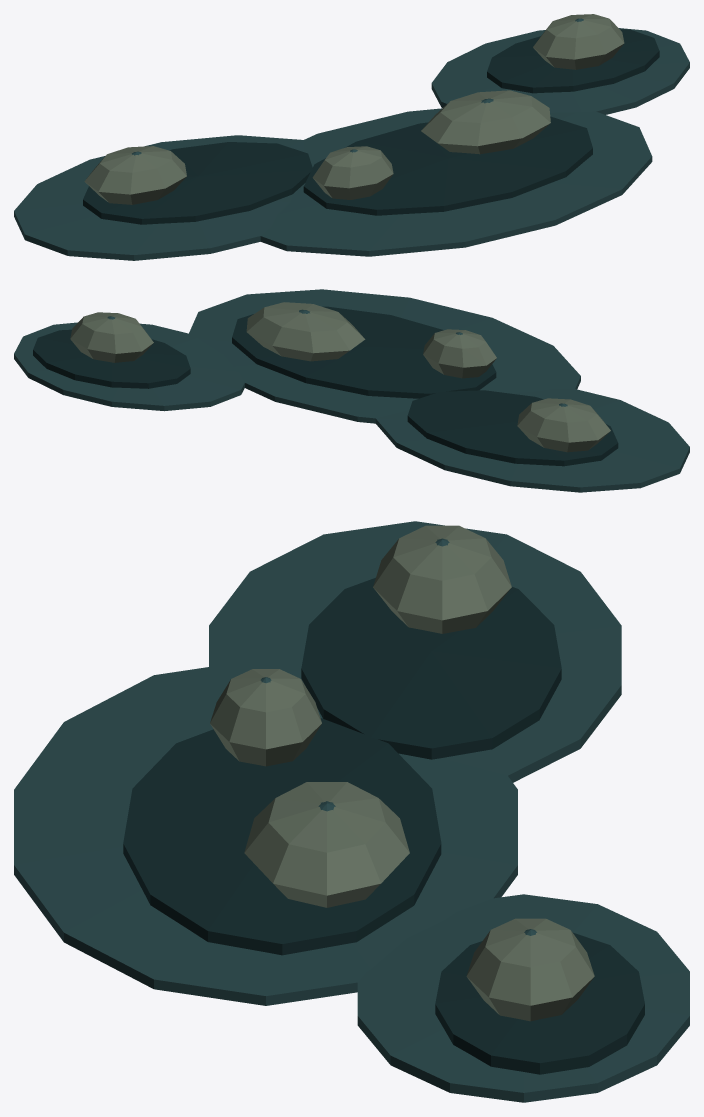
Rendered from methane_seep_a.obj.
3 views of the same model, one above another, from view 1: azimuth 30°, elevation 25°; view 2: azimuth 150°, elevation 25°; view 3: azimuth 270°, elevation 25° (orthographic). The views are drawn at different scales.
Parts seen in each view (by area): view 1: seep_film_1, anoxic_pool_1, seep_film_0, anoxic_pool_0, seep_film_2, gas_dome_2, anoxic_pool_2, gas_dome_0, gas_dome_3, gas_dome_1; view 2: seep_film_1, seep_film_0, anoxic_pool_1, anoxic_pool_0, seep_film_2, anoxic_pool_2, gas_dome_2, gas_dome_0, gas_dome_3, gas_dome_1; view 3: seep_film_1, anoxic_pool_1, anoxic_pool_0, seep_film_0, seep_film_2, anoxic_pool_2, gas_dome_2, gas_dome_0, gas_dome_3, gas_dome_1.
Part boxes in pixels (x1,y1,x2,y2): seep_film_1: (260, 108, 652, 256); anoxic_pool_1: (303, 116, 592, 215); seep_film_0: (14, 135, 303, 260); anoxic_pool_0: (83, 142, 312, 224); seep_film_2: (431, 28, 689, 114); gas_dome_2: (421, 90, 550, 154); anoxic_pool_2: (487, 29, 659, 93); gas_dome_0: (84, 146, 186, 204); gas_dome_3: (533, 14, 624, 69); gas_dome_1: (312, 146, 393, 199); seep_film_1: (189, 289, 580, 423); seep_film_0: (375, 389, 689, 492); anoxic_pool_1: (232, 306, 496, 398); anoxic_pool_0: (407, 390, 618, 466); seep_film_2: (14, 322, 244, 411); anoxic_pool_2: (33, 329, 190, 388); gas_dome_2: (246, 302, 365, 361); gas_dome_0: (517, 398, 610, 452); gas_dome_3: (70, 312, 153, 362); gas_dome_1: (423, 329, 496, 378); seep_film_1: (14, 667, 517, 1005); anoxic_pool_1: (123, 718, 441, 955); anoxic_pool_0: (301, 577, 561, 759); seep_film_0: (209, 521, 621, 782); seep_film_2: (357, 894, 689, 1102); anoxic_pool_2: (435, 932, 644, 1074); gas_dome_2: (244, 782, 409, 907); gas_dome_0: (373, 525, 511, 633); gas_dome_3: (466, 918, 594, 1021); gas_dome_1: (210, 669, 321, 766).
Size of the model in its own units: 9.97 by 0.78 by 4.98.
